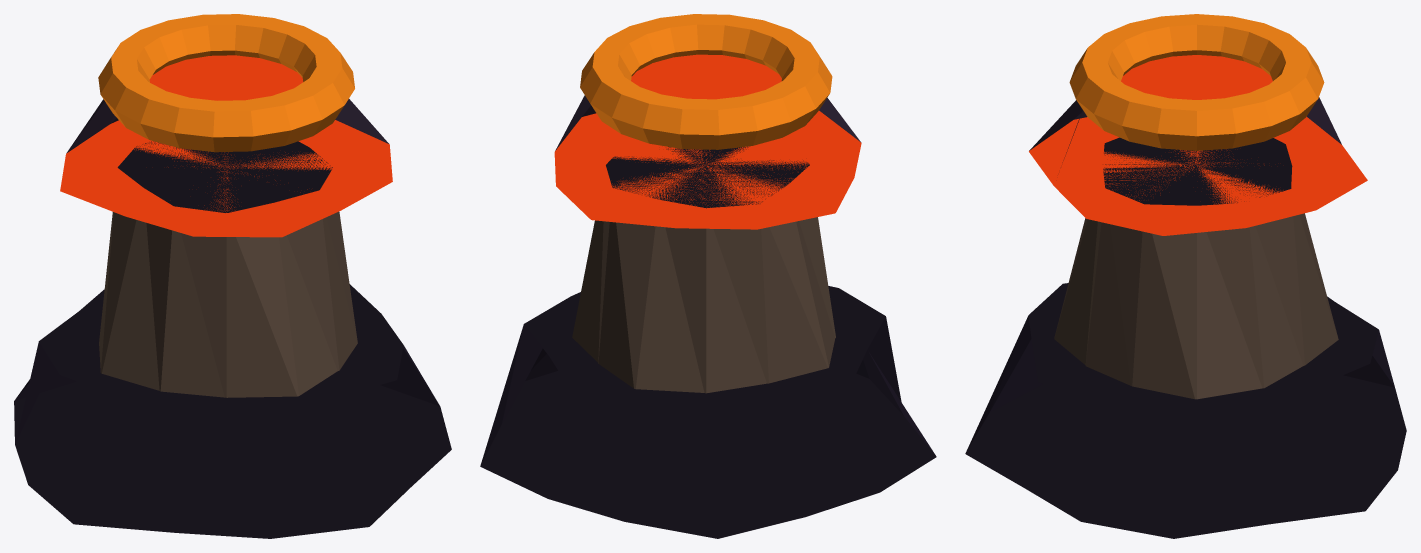
File: magma_cannon.obj
3 views of the same model, side by side, from view 1: azimuth 30°, elevation 25°; view 2: azimuth 150°, elevation 25°; view 3: azimuth 270°, elevation 25° (orthographic).
Parts seen in each view (by area): view 1: magma_cannon; view 2: magma_cannon; view 3: magma_cannon.
Part boxes in pixels (x1,y1,x2,y2): magma_cannon: [14, 14, 451, 538]; magma_cannon: [480, 14, 936, 538]; magma_cannon: [965, 14, 1406, 538].
Bounding box in the file's own units: 3.19 × 2.96 × 3.12.
